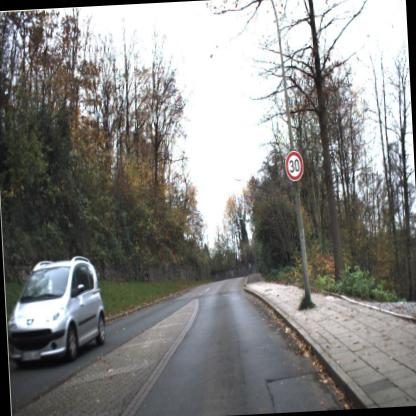prohibitory: (282, 148, 306, 186)
